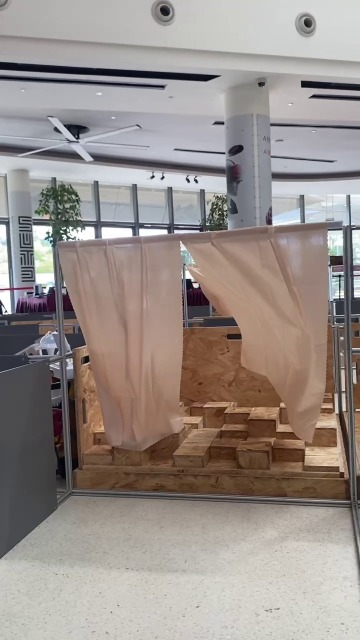curtain: (43, 224, 331, 448)
